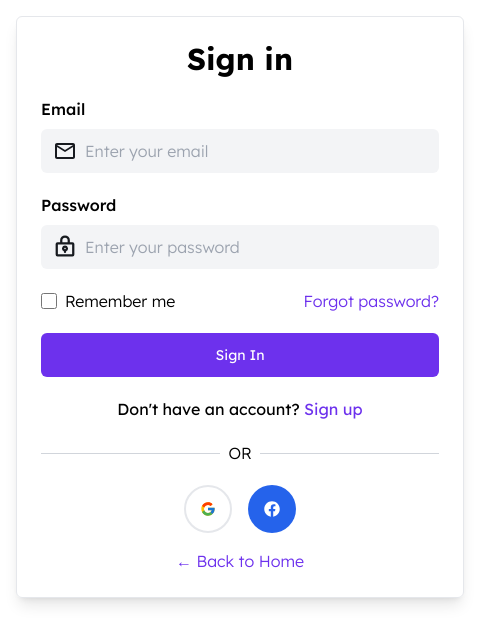
Test: SignIn Component › renders the form and allows user to fill out and submit
In the field with placeholder "Enter your email": (256, 151) [85,129,427,173], type "test@example.com"
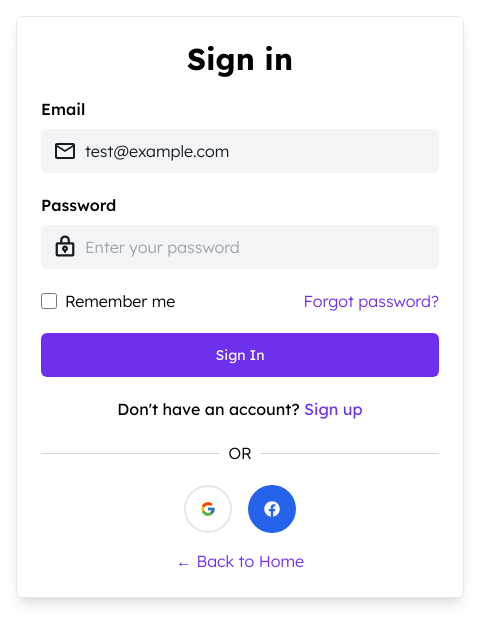
In the password field with placeholder "Enter your password": (256, 247) [85,225,427,269], type "password123"
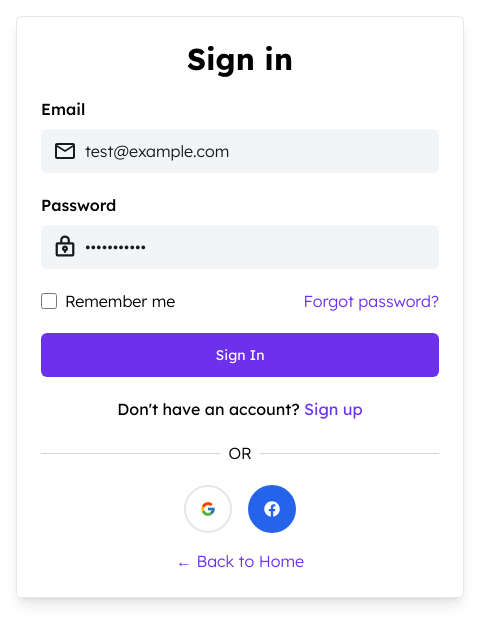
Click the link "Sign In": (240, 355) [41,333,439,377]
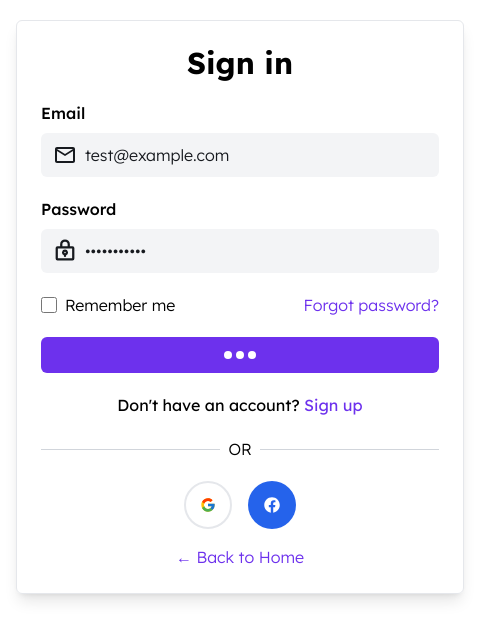
Expected: the element with test id "Loading" is shown, [222,349,258,361]
